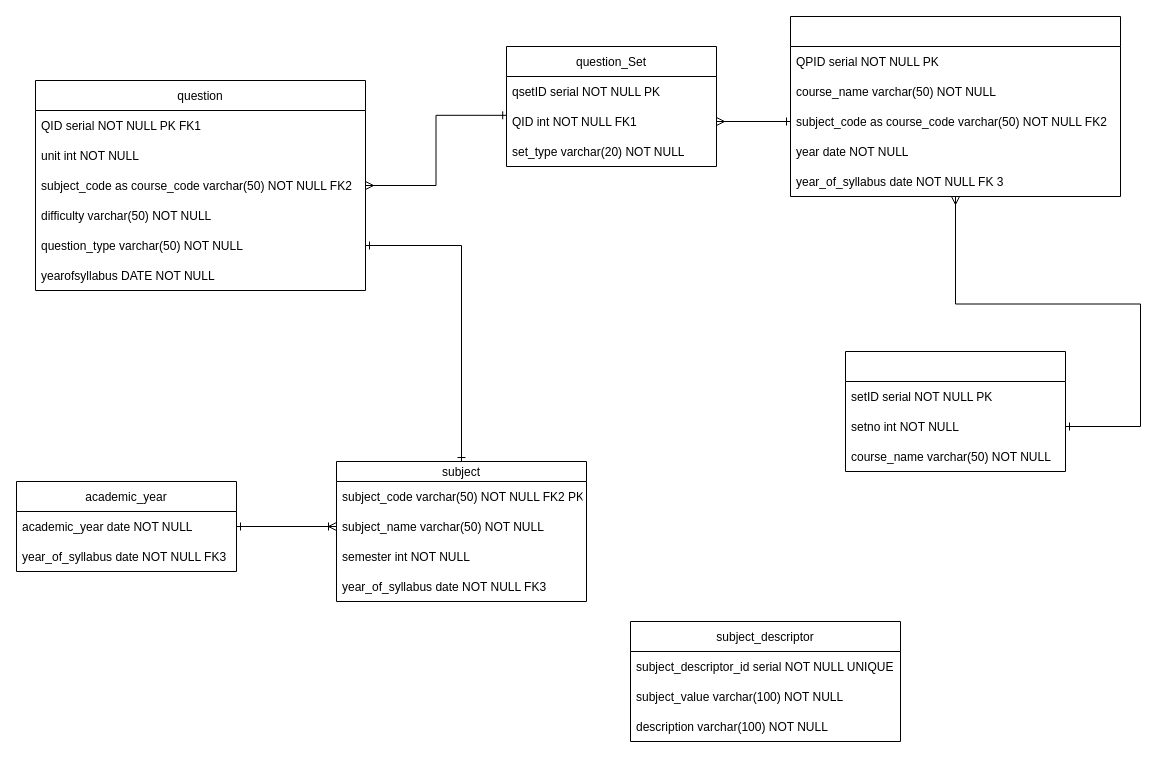
This 1157x758 diagram has some shape labels left out. Each missing label, with the box of its shape:
question_paper: (790, 16, 1120, 196)
question_paper_set: (844, 350, 1066, 472)
